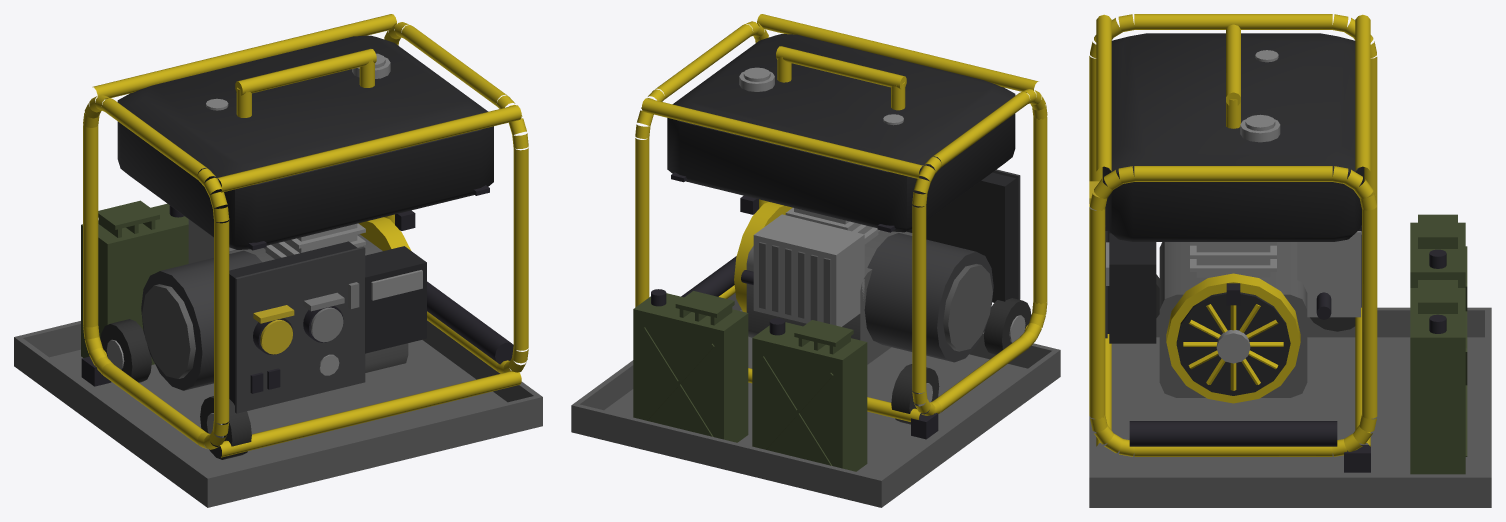
Rendered from generator.glb.
3 views of the same model, side by side, from view 1: azimuth 30°, elevation 25°; view 2: azimuth 150°, elevation 25°; view 3: azimuth 270°, elevation 25° (orthographic). The views are drawn at different scales.
Parts seen in each view (by area): view 1: Generator; view 2: Generator; view 3: Generator.
Boxes of the visible parts, x1,y1,x2,y2 form: Generator: [14, 14, 542, 507]; Generator: [571, 14, 1060, 507]; Generator: [1089, 14, 1491, 507].
Bounding box in the file's own units: 1.2 × 1.2 × 1.2.
